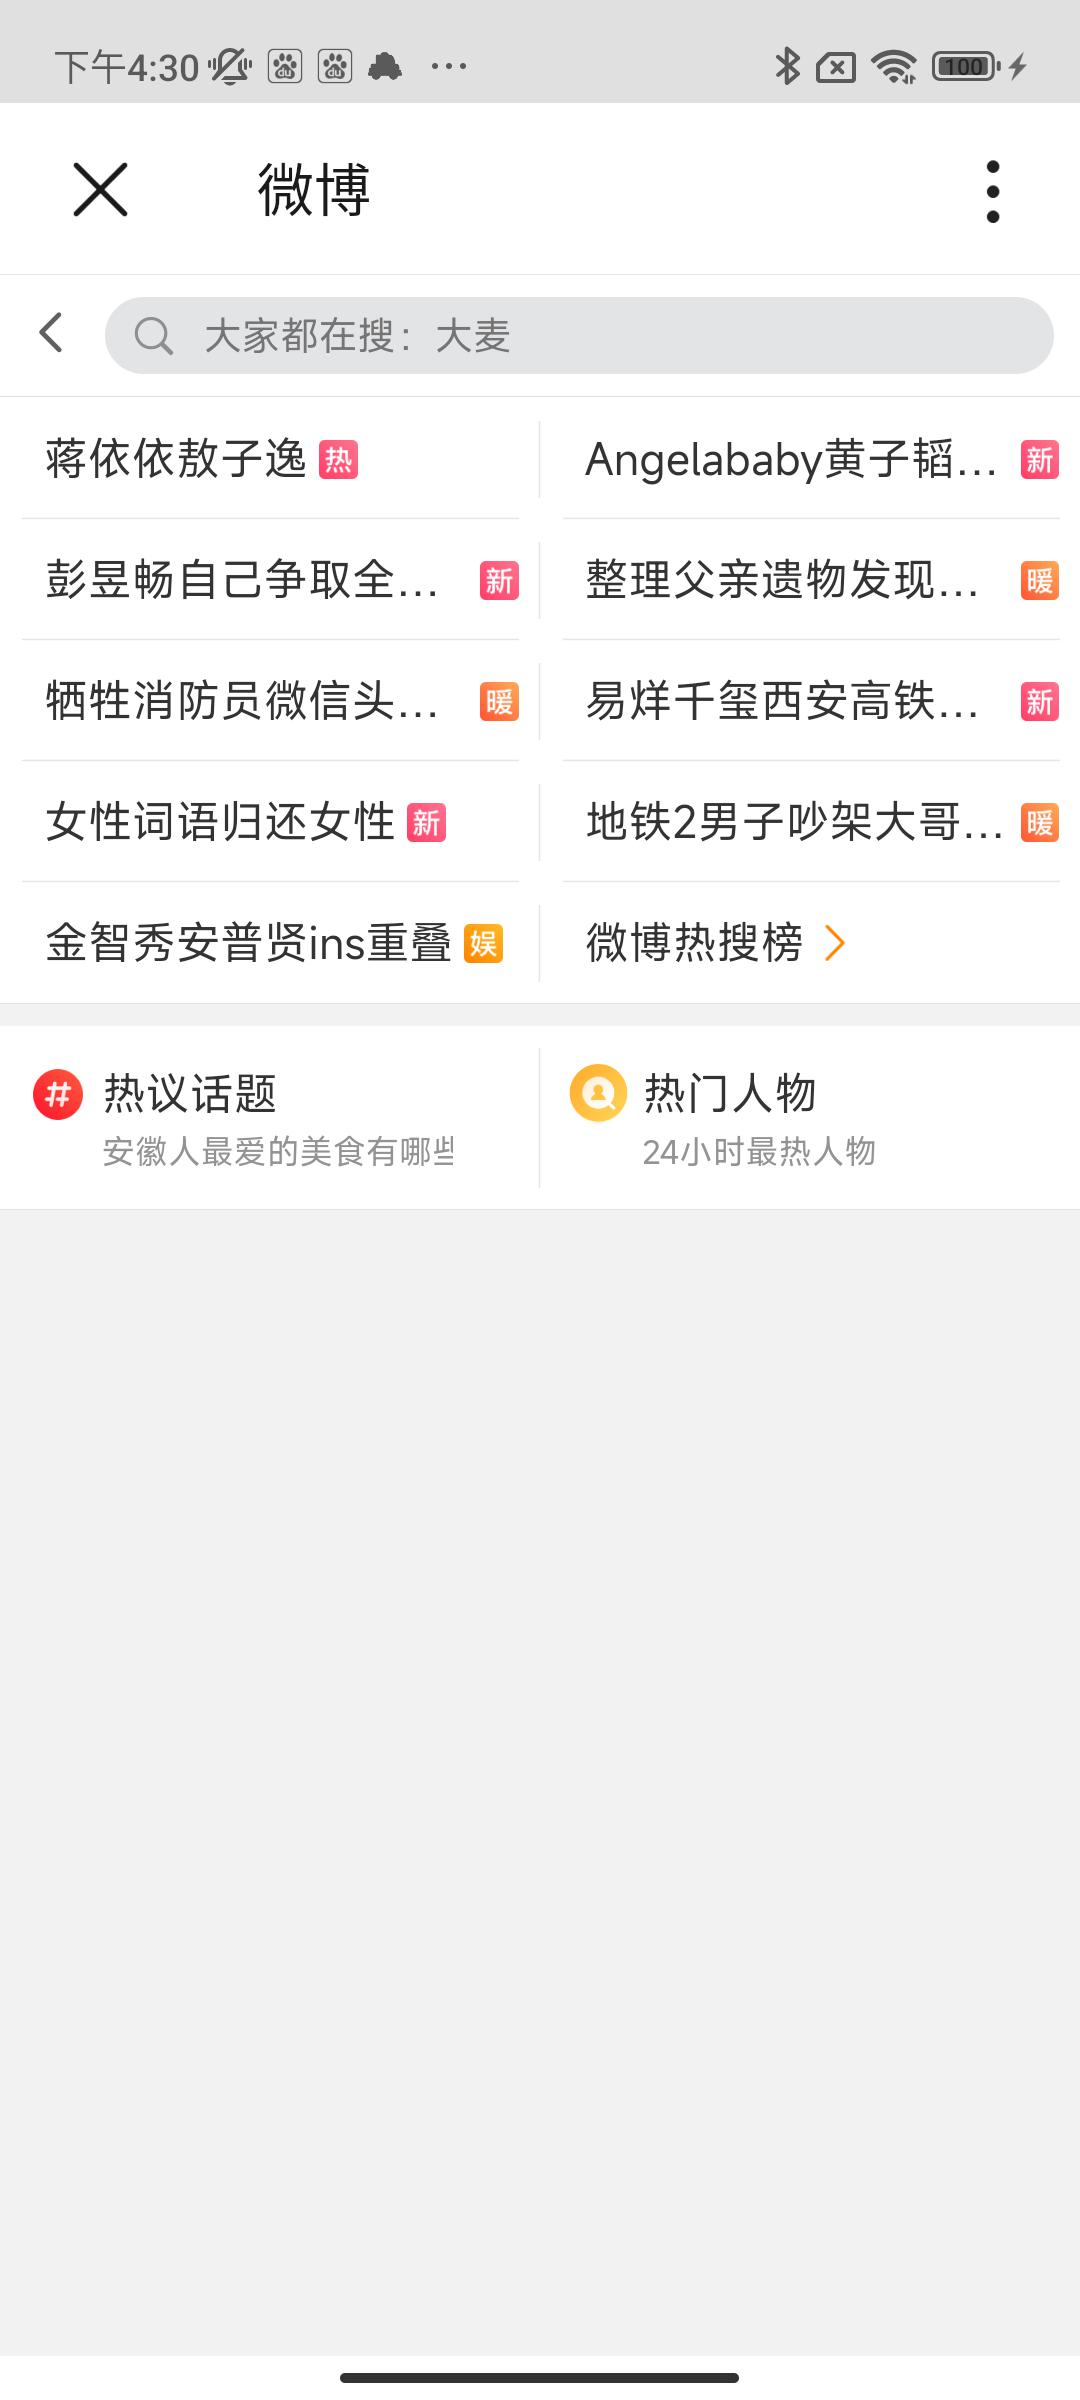ui_group: (2, 1045, 529, 1208), (555, 1042, 950, 1208)
